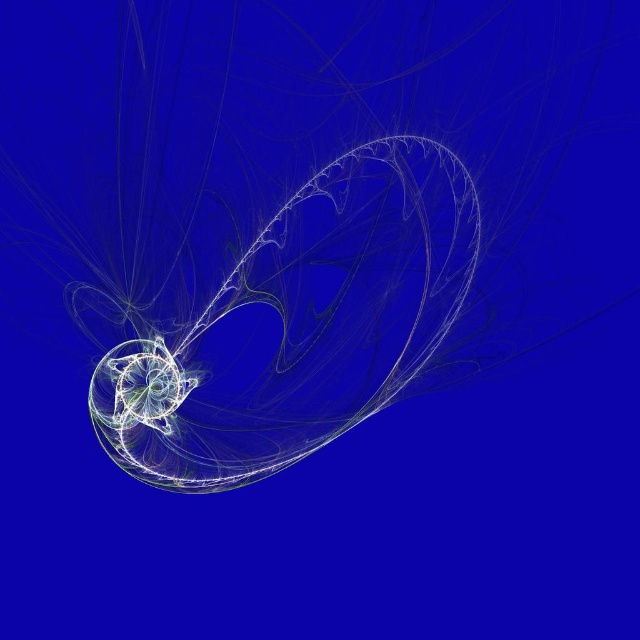Jellyfish: (0, 0, 638, 494)
